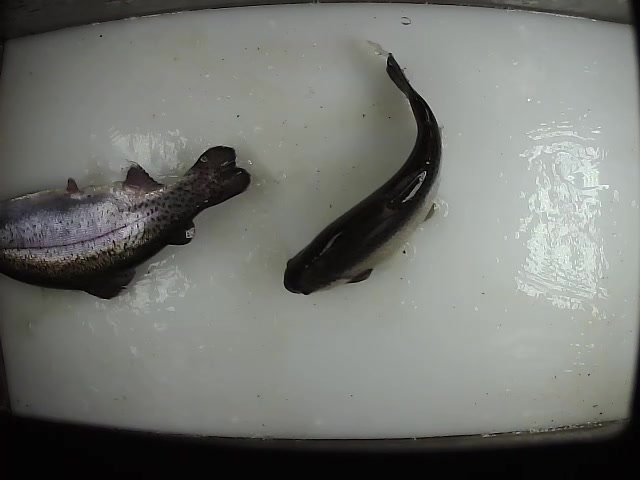fish: (282, 52, 448, 299), (1, 143, 252, 304)
